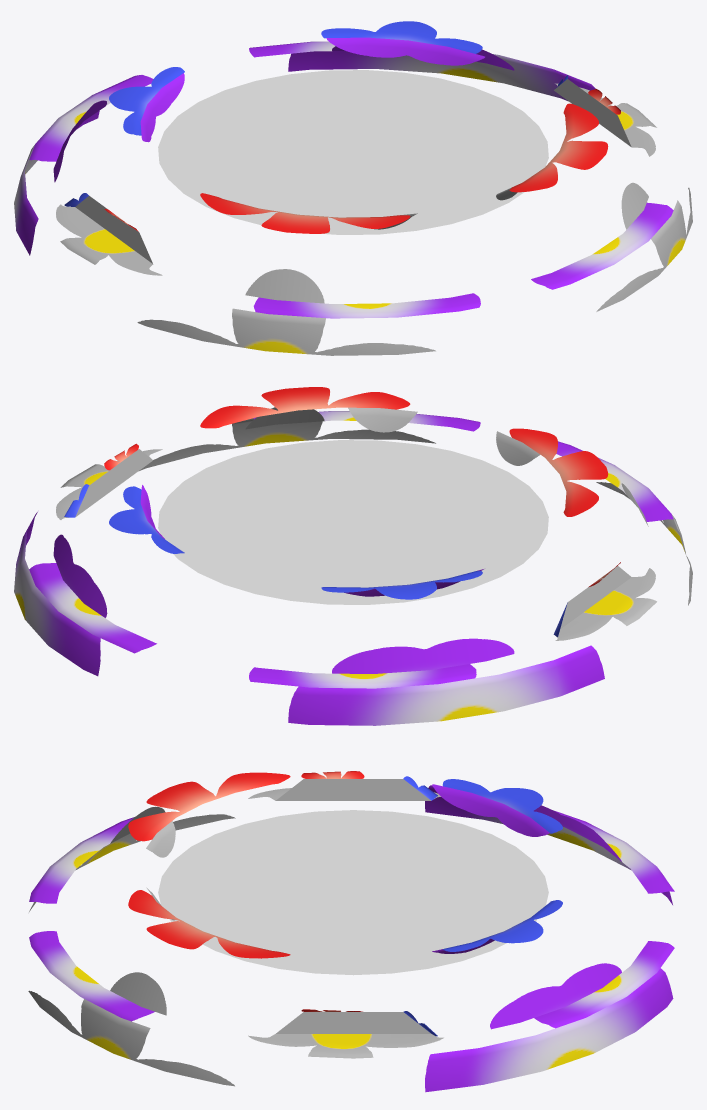
File: SM_TreePot.fbx
The picture shows the model from 3 angles, top to bottom: view 1: azimuth 30°, elevation 25°; view 2: azimuth 150°, elevation 25°; view 3: azimuth 270°, elevation 25°; orthographic projection.
Parts seen in each view (by area): view 1: TreePot; view 2: TreePot; view 3: TreePot.
Part boxes in pixels (x1,y1,x2,y2): TreePot: [14, 21, 692, 355]; TreePot: [14, 387, 692, 725]; TreePot: [28, 771, 674, 1092].
Bounding box in the file's own units: 192 × 27.1 × 192.
